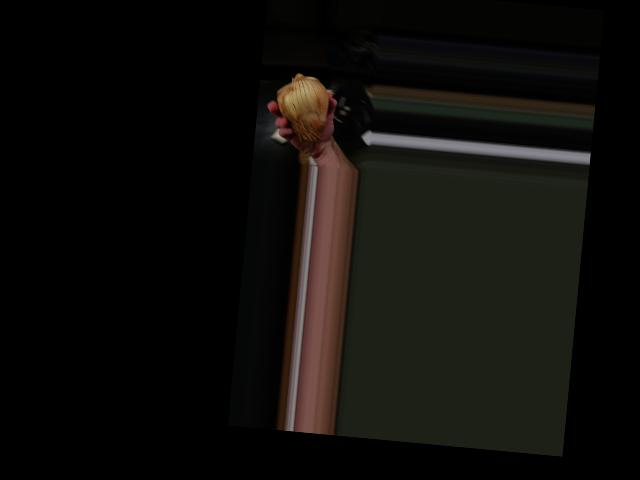onion: (274, 72, 332, 141)
